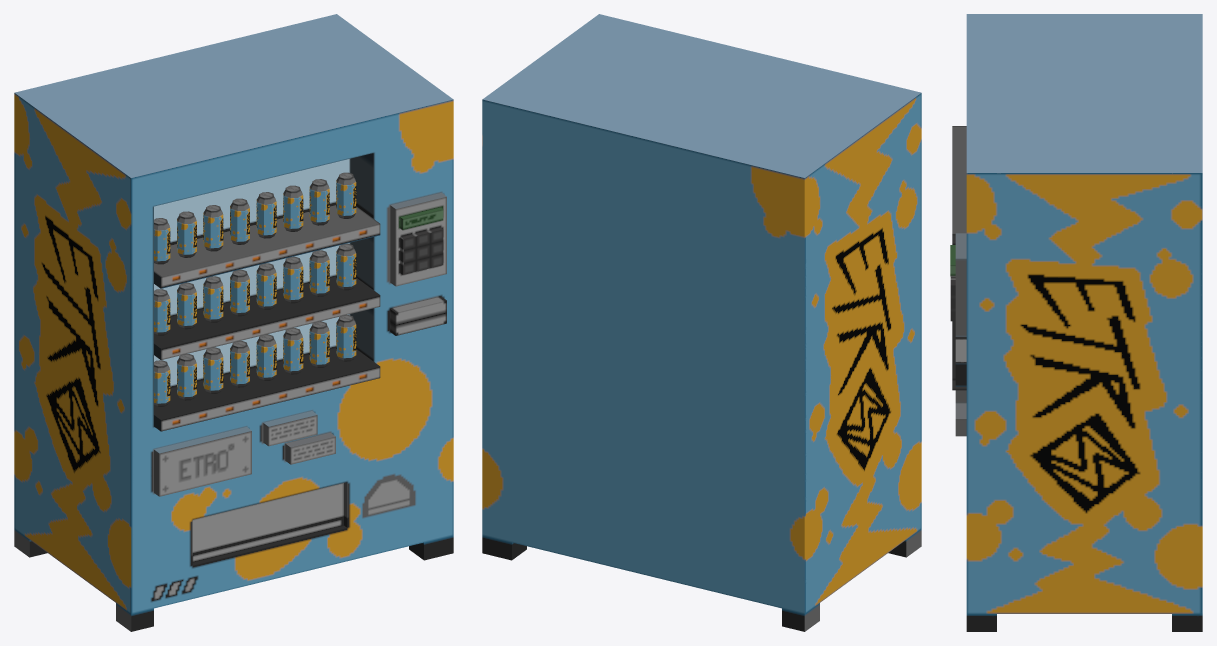
Rendered from vendingMachine.fbx.
3 views of the same model, side by side, from view 1: azimuth 30°, elevation 25°; view 2: azimuth 150°, elevation 25°; view 3: azimuth 270°, elevation 25° (orthographic).
Parts seen in each view (by area): view 1: Cube, Cylinder; view 2: Cube; view 3: Cube.
Boxes of the visible parts, bbox=[...] form: Cube: bbox=[14, 14, 453, 631]; Cylinder: bbox=[154, 172, 356, 406]; Cube: bbox=[482, 14, 921, 631]; Cube: bbox=[950, 14, 1202, 631].
Bounding box in the file's own units: 123 × 166 × 82.66.
